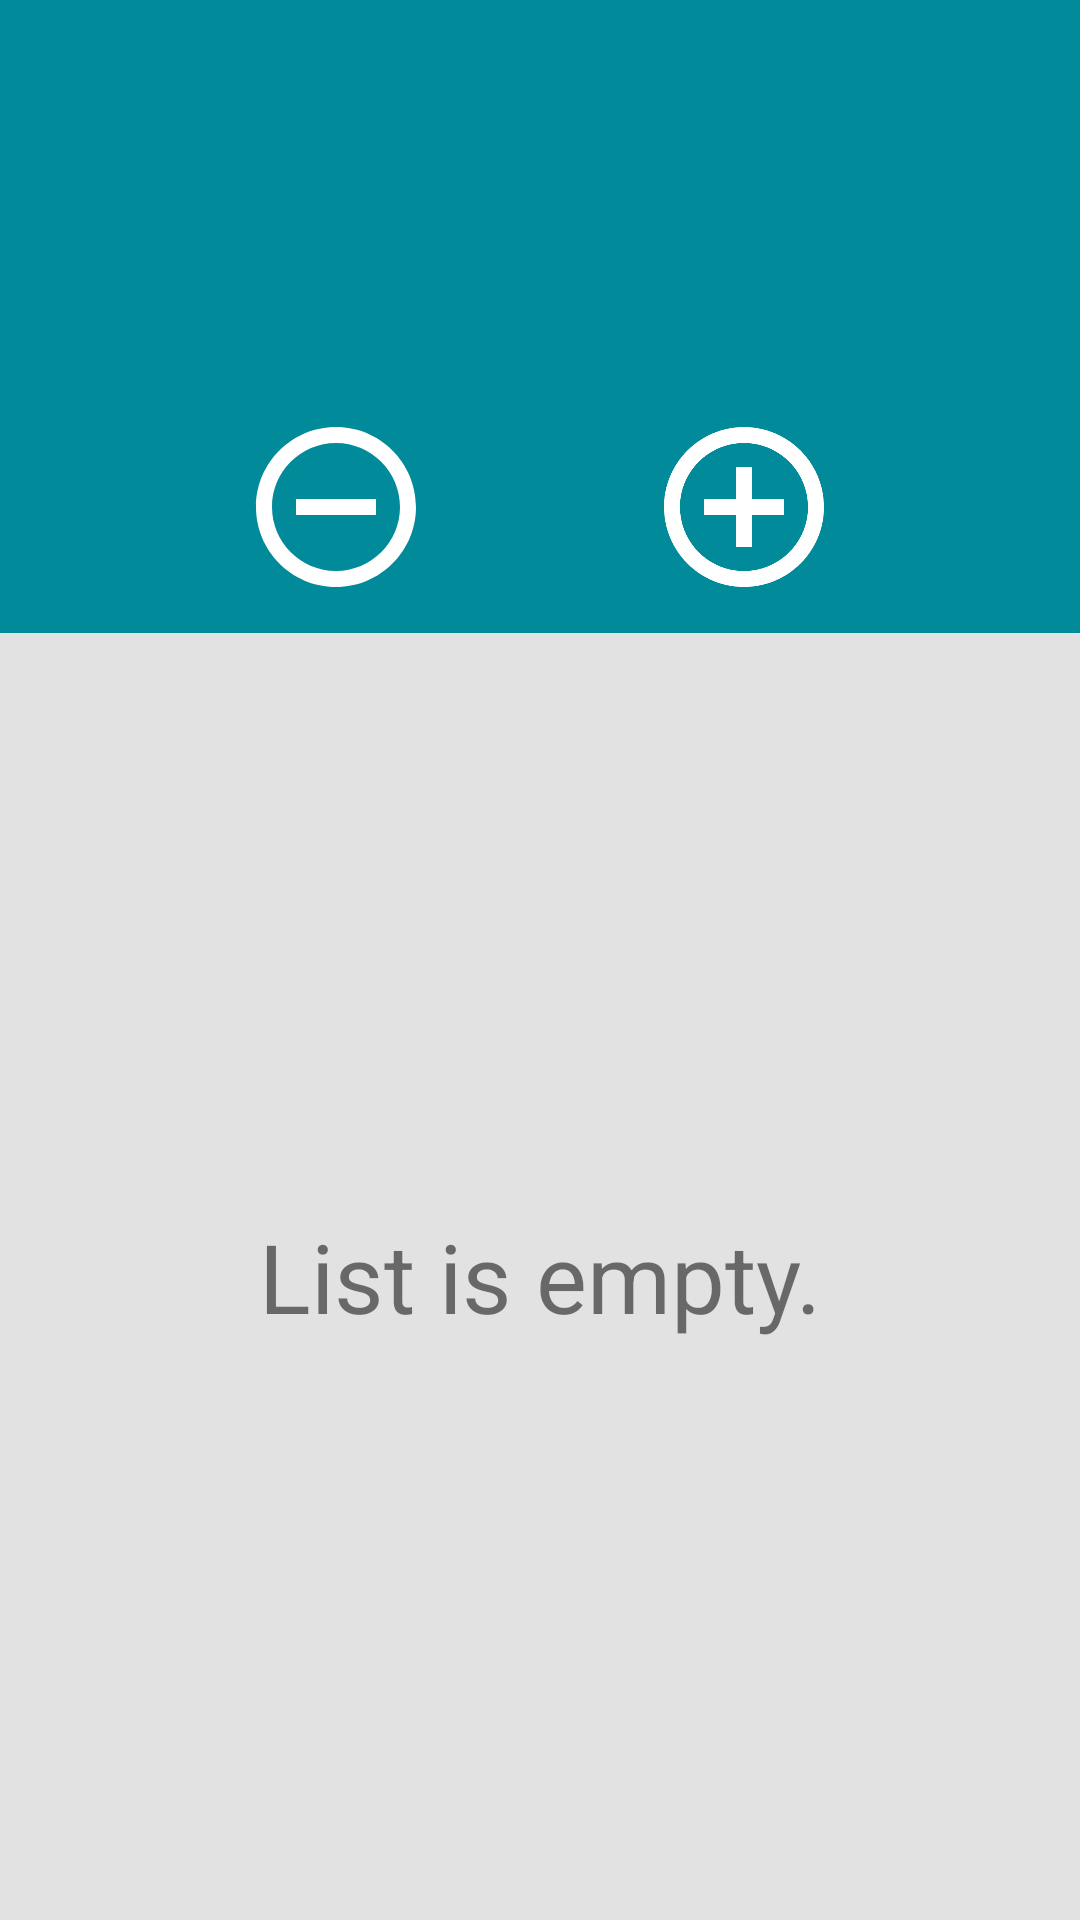

Where icons sit on this 1080*1920 app screen, as {"x1": x1, "y1": y1, "x2": x2, "y2": y2}:
Decease Debt Image: {"x1": 256, "y1": 427, "x2": 416, "y2": 587}
Increase Debt Image: {"x1": 664, "y1": 427, "x2": 824, "y2": 587}
